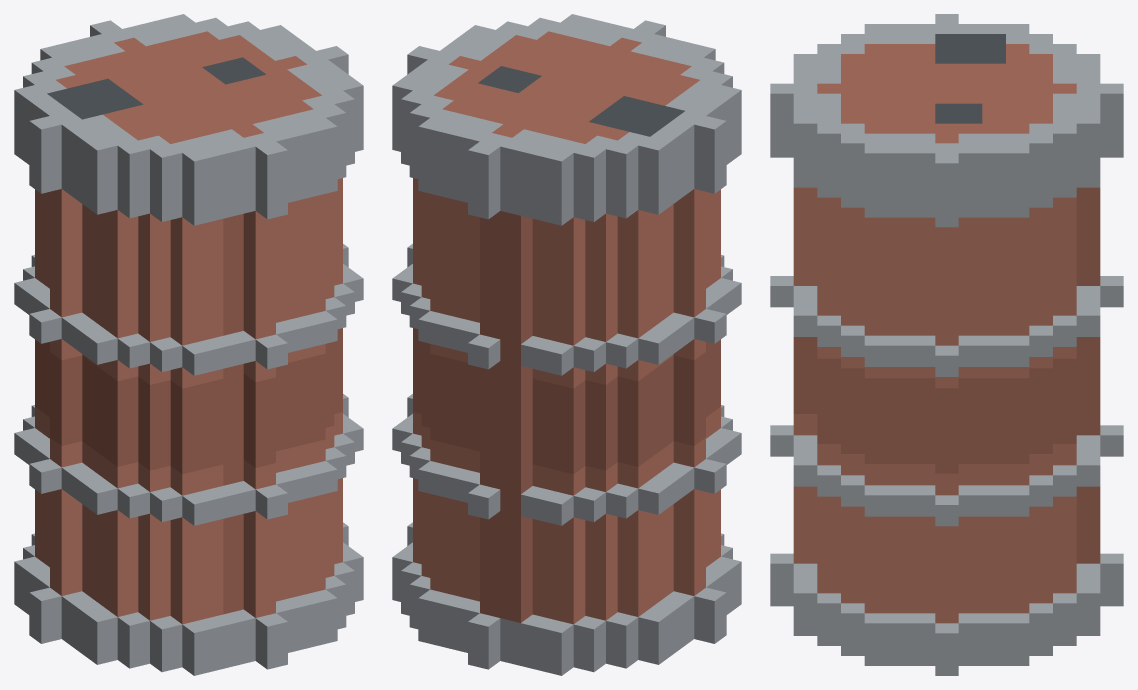
File: drum.glb
3 views of the same model, side by side, from view 1: azimuth 30°, elevation 25°; view 2: azimuth 150°, elevation 25°; view 3: azimuth 270°, elevation 25° (orthographic).
Size of the model in its own units: 15 by 24 by 15.
